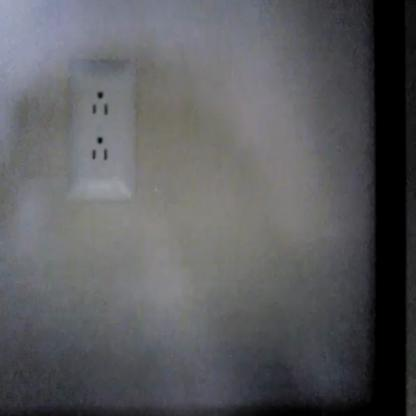OUTLET: (63, 57, 134, 204)
